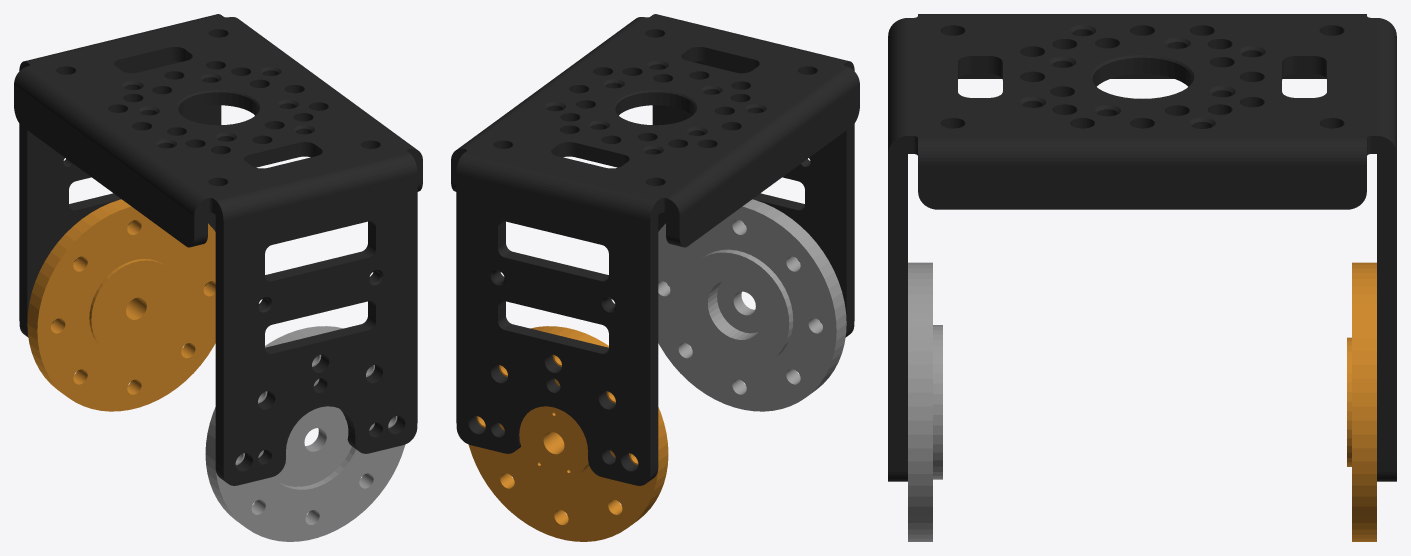
The model's file is tilt_bracket.dae.
The picture shows the model from 3 angles, left to right: view 1: azimuth 30°, elevation 25°; view 2: azimuth 150°, elevation 25°; view 3: azimuth 270°, elevation 25°; orthographic projection. The views are drawn at different scales.
Parts seen in each view (by area): view 1: tilt_bracket; view 2: tilt_bracket; view 3: tilt_bracket.
Boxes of the visible parts, x1,y1,x2,y2 form: tilt_bracket: [14, 14, 422, 541]; tilt_bracket: [451, 14, 859, 541]; tilt_bracket: [888, 14, 1396, 541].
Size of the model in its own units: 0.033 by 0.051 by 0.05.
